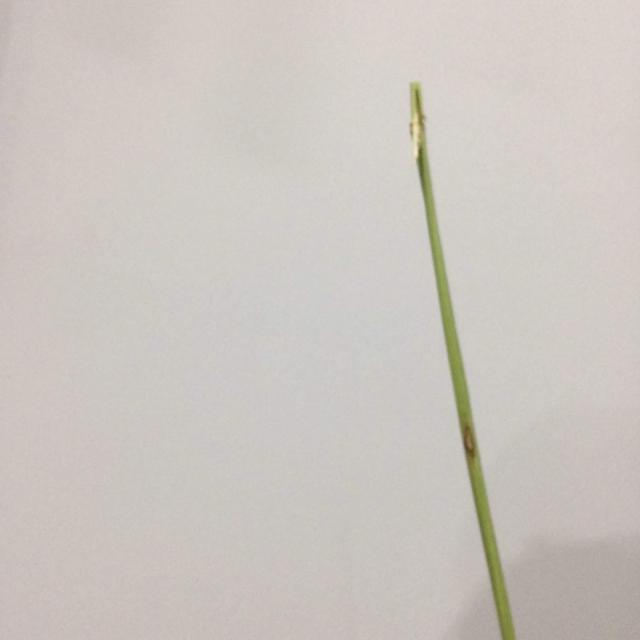Blast: (464, 425, 476, 458)
